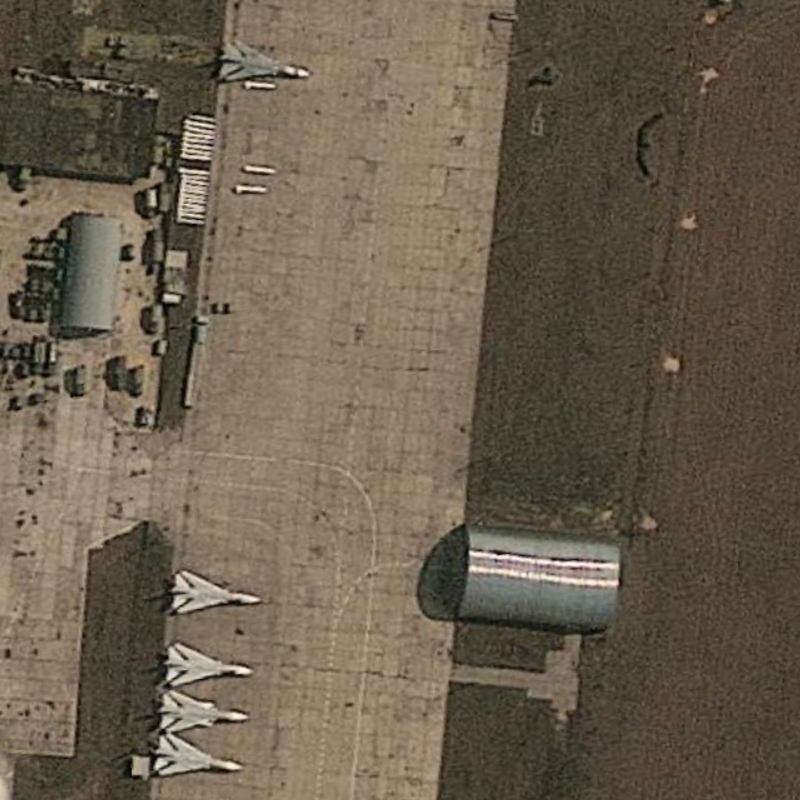A20: (166, 567, 264, 617), (161, 639, 256, 689), (154, 689, 252, 736), (216, 37, 312, 84), (152, 732, 245, 778)
